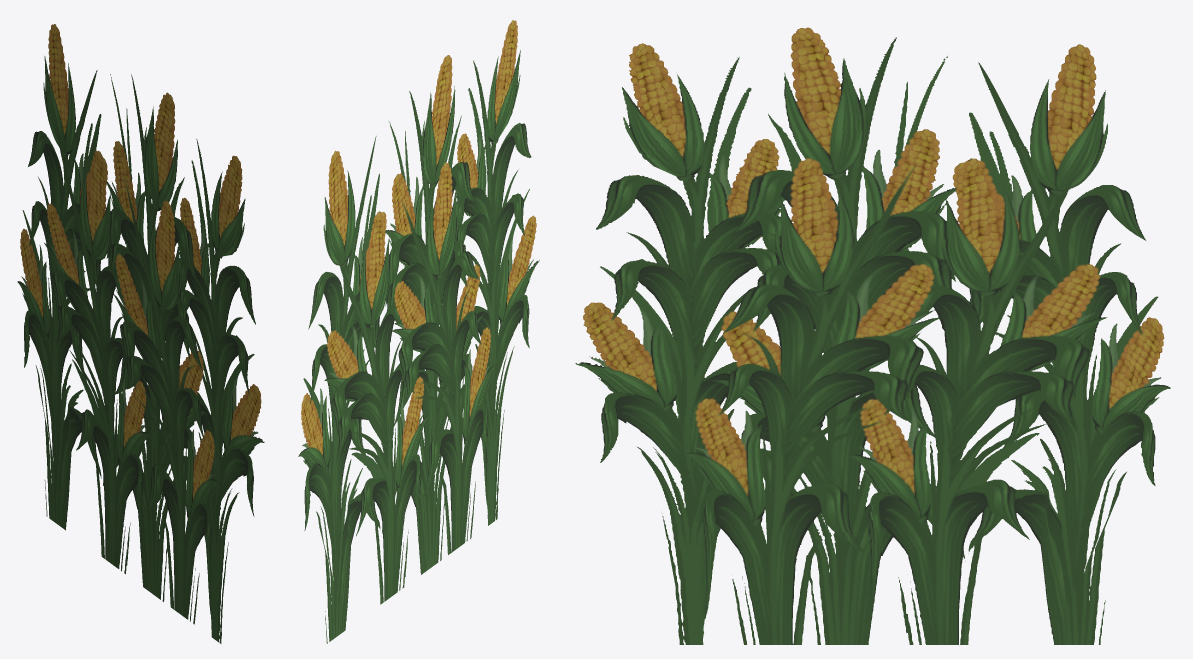
Rendered from CornCrop_large.fbx.
3 views of the same model, side by side, from view 1: azimuth 30°, elevation 25°; view 2: azimuth 150°, elevation 25°; view 3: azimuth 270°, elevation 25° (orthographic). The views are drawn at different scales.
Visible parts, largest first — view 1: CornCrop_large; view 2: CornCrop_large; view 3: CornCrop_large.
Part boxes in pixels (x1,y1,x2,y2): CornCrop_large: [17, 24, 264, 643]; CornCrop_large: [298, 20, 539, 643]; CornCrop_large: [575, 27, 1170, 644].
Size of the model in its own units: 2.46e-18 by 1.02 by 0.8879.
